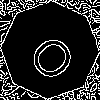O: (25, 25, 86, 86)
